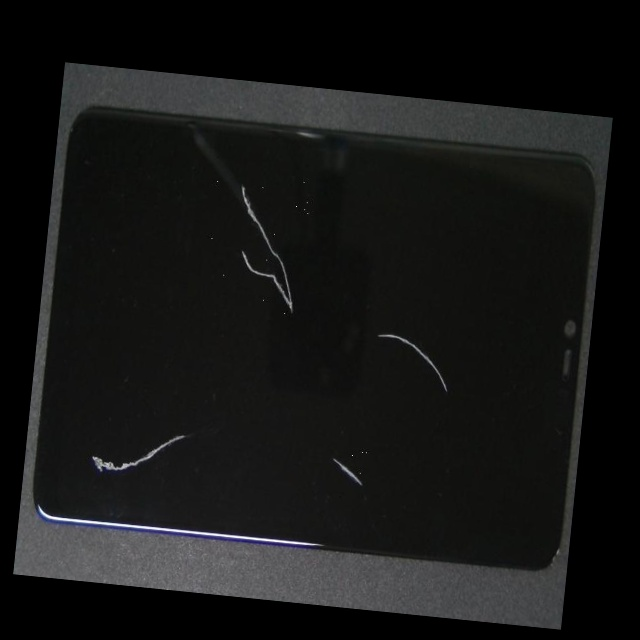scratch: (141, 161, 589, 522), (149, 274, 521, 622), (155, 196, 433, 463), (50, 225, 144, 584)
